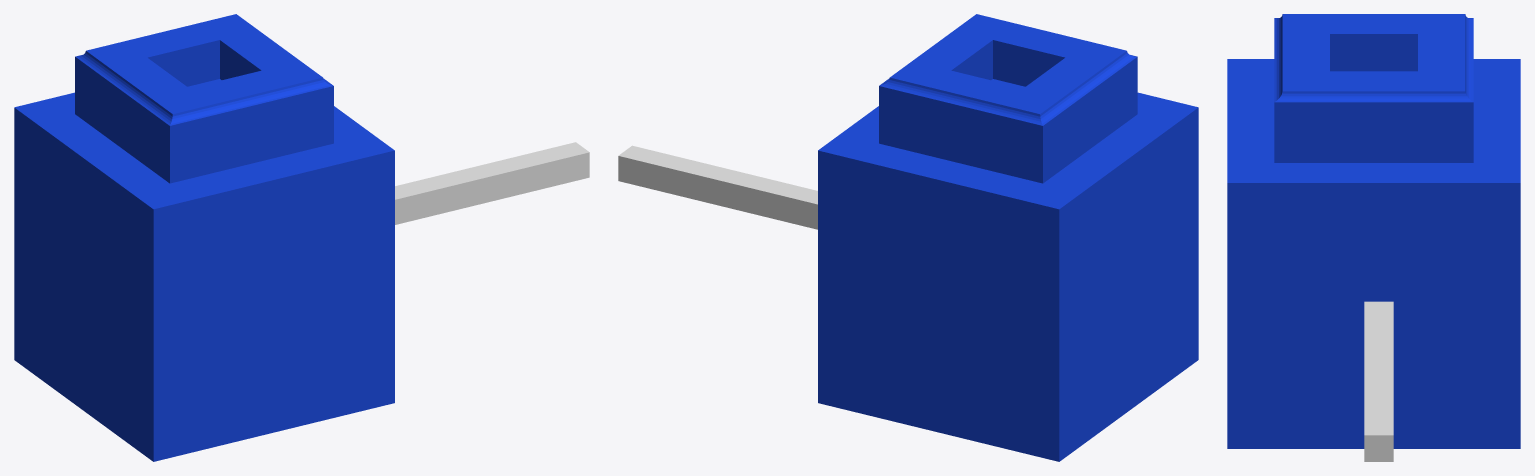
Rendered from threeModel.glb.
The picture shows the model from 3 angles, left to right: view 1: azimuth 30°, elevation 25°; view 2: azimuth 150°, elevation 25°; view 3: azimuth 270°, elevation 25°; orthographic projection. The views are drawn at different scales.
Visible parts, largest first — view 1: Body, Gun; view 2: Body, Gun; view 3: Body, Gun.
Boxes of the visible parts, x1,y1,x2,y2 form: Body: [14, 14, 394, 461]; Gun: [395, 142, 589, 224]; Body: [818, 14, 1198, 461]; Gun: [618, 145, 817, 229]; Body: [1227, 14, 1520, 448]; Gun: [1364, 301, 1393, 461].
Bounding box in the file's own units: 4.15 × 2.51 × 2.
